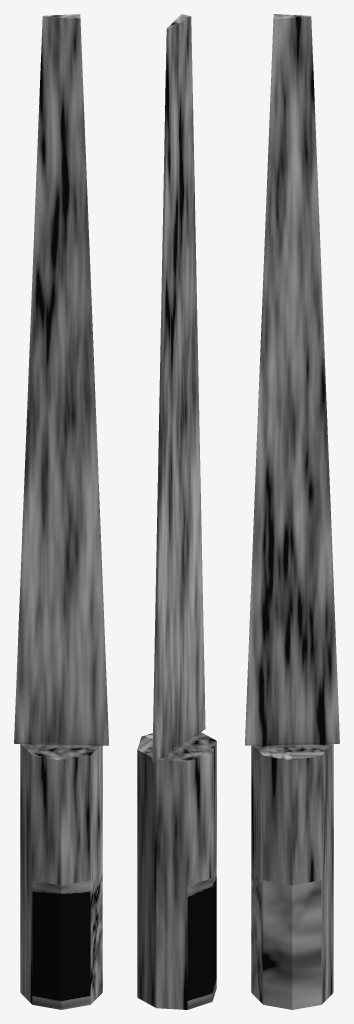
File: machete.glb
The picture shows the model from 3 angles, left to right: view 1: azimuth 90°, elevation 25°; view 2: azimuth 150°, elevation 25°; view 3: azimuth 270°, elevation 25°; orthographic projection.
Parts seen in each view (by area): view 1: machete; view 2: machete; view 3: machete.
Boxes of the visible parts, <box> form: machete: <box>14,14,108,1009</box>; machete: <box>137,14,216,1009</box>; machete: <box>245,14,339,1009</box>.
Size of the model in its own units: 0.036 by 0.47 by 0.0414.
Materials: 1 (1 with a texture image).
